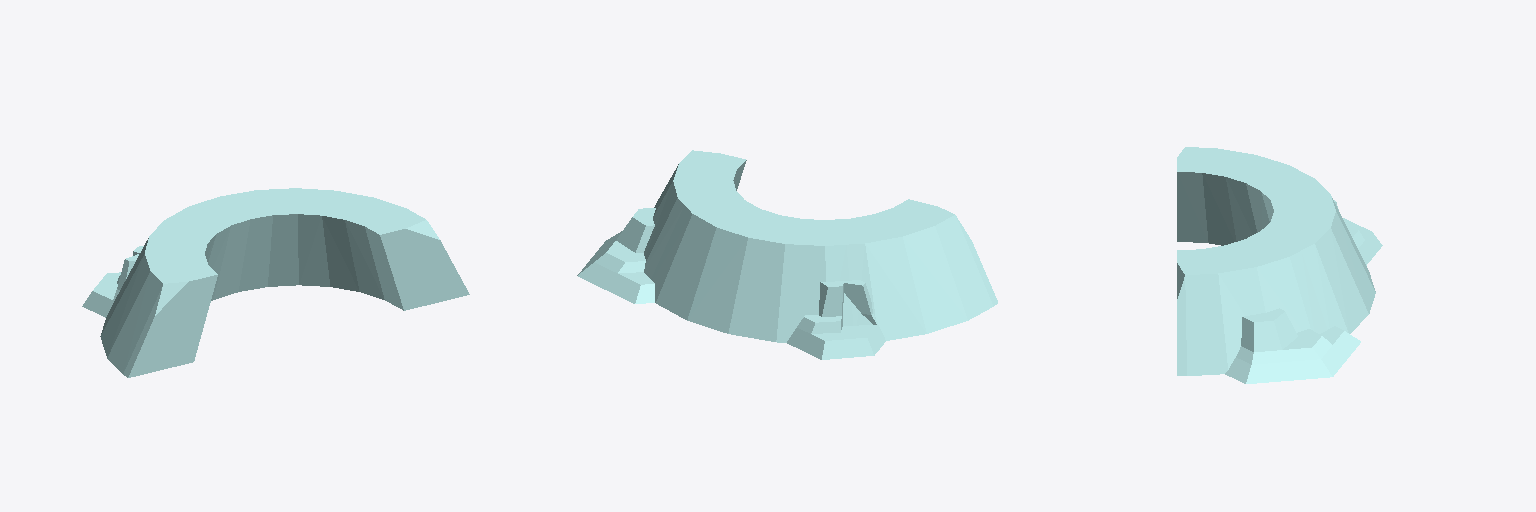
3 renders of one model, left to right at view 1: azimuth 30°, elevation 25°; view 2: azimuth 150°, elevation 25°; view 3: azimuth 270°, elevation 25°, orthographic.
Visible parts, largest first — view 1: snowFort; view 2: snowFort; view 3: snowFort.
Boxes of the visible parts, <box> form: snowFort: <box>82,188,469,377</box>; snowFort: <box>577,150,997,359</box>; snowFort: <box>1177,147,1382,383</box>.
Size of the model in its own units: 1 by 0.2182 by 0.4966.